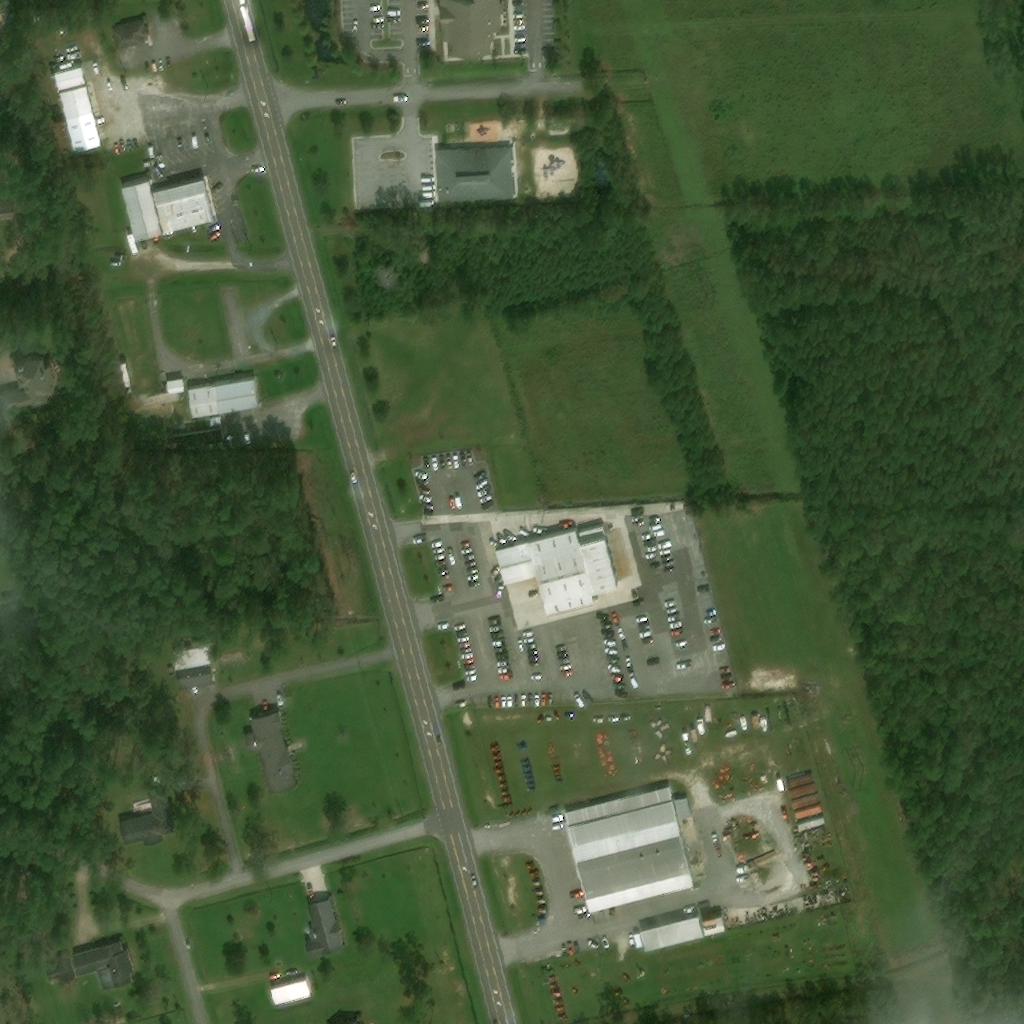no_damage: (565, 787, 697, 917), (495, 526, 620, 616), (436, 147, 517, 208), (242, 711, 298, 795), (45, 942, 134, 992), (434, 0, 505, 61), (118, 787, 182, 847), (150, 179, 212, 236), (0, 355, 58, 413), (186, 379, 260, 419), (58, 87, 101, 154), (120, 182, 161, 243), (639, 915, 704, 953), (305, 897, 344, 958), (171, 646, 212, 691), (271, 979, 315, 1008), (112, 22, 151, 54), (53, 68, 87, 93), (375, 266, 399, 294), (700, 915, 725, 937), (797, 819, 826, 834), (787, 777, 816, 791), (795, 808, 823, 822), (794, 787, 819, 802), (119, 365, 133, 391), (796, 798, 820, 812), (165, 379, 184, 396), (0, 200, 14, 216), (209, 419, 221, 430)
